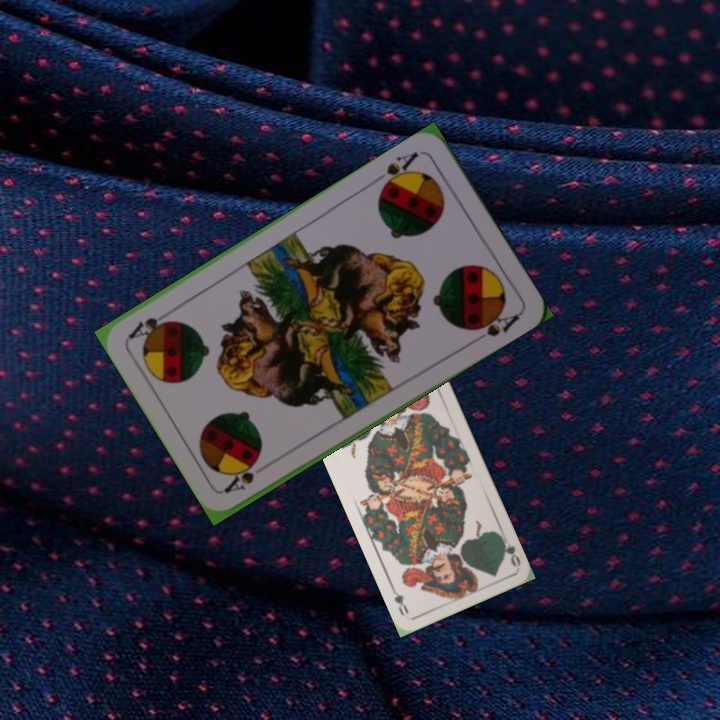GO: (497, 531, 523, 570)
SA: (376, 147, 422, 194), (220, 458, 260, 496)
